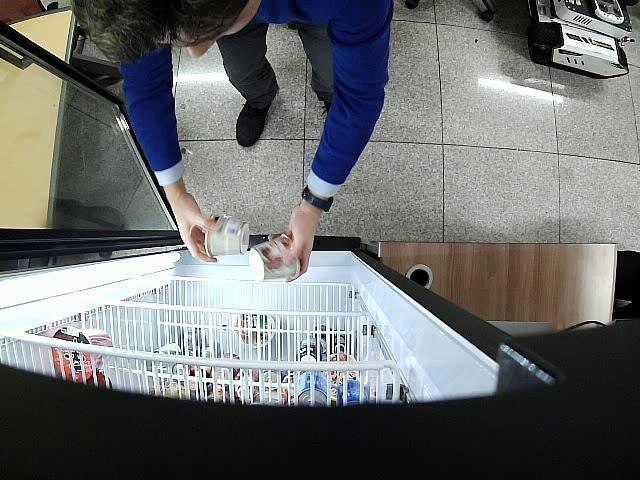04_chapagetti_S: (248, 234, 300, 282), (205, 214, 250, 258)
